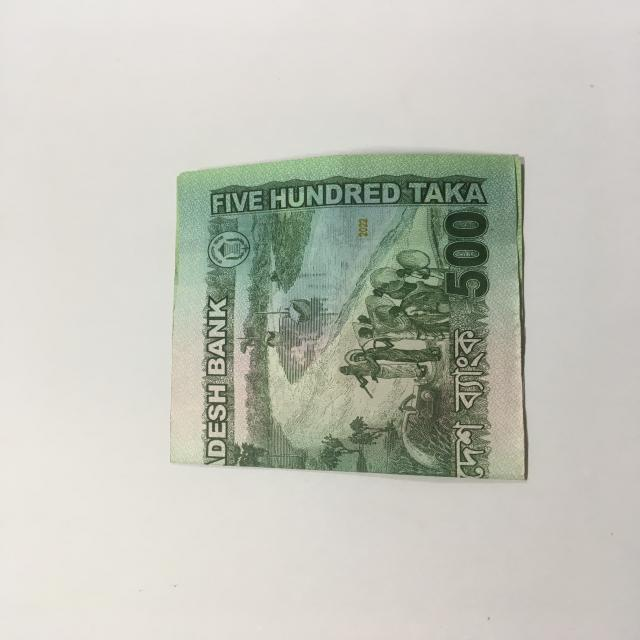Taka: (154, 144, 544, 485)
